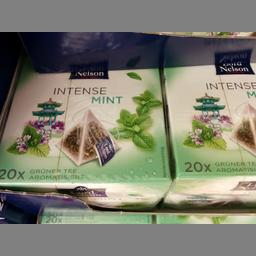tea: (0, 58, 169, 209), (161, 62, 255, 209)
